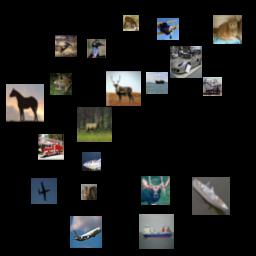airplane: (70, 216, 102, 248), (31, 178, 57, 204), (157, 18, 179, 40)
automobile: (170, 46, 202, 78)
bird: (87, 39, 106, 58)
cat: (213, 15, 242, 44), (81, 184, 97, 200)
deer: (106, 71, 141, 106), (77, 107, 112, 142), (141, 176, 170, 205), (55, 35, 77, 57), (123, 15, 139, 31)
frog: (50, 73, 72, 95)
ship: (192, 177, 230, 215), (139, 214, 174, 249), (146, 72, 168, 94), (82, 152, 101, 171)
truck: (38, 134, 64, 160), (203, 77, 222, 96)
